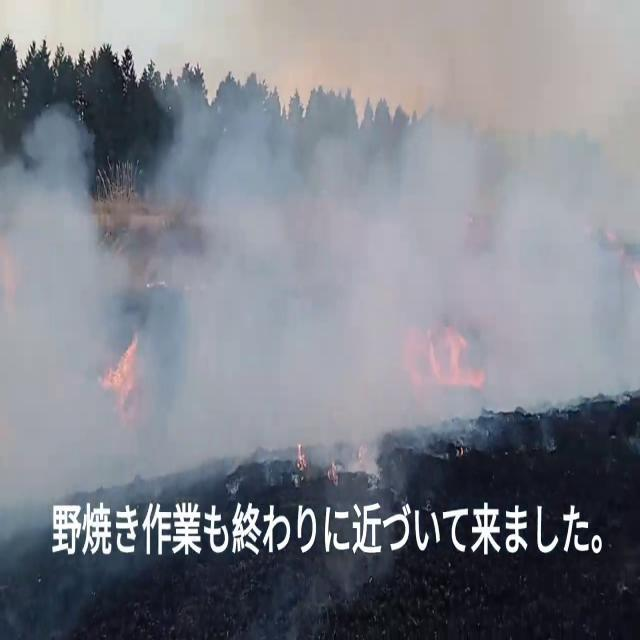Smoke: (0, 53, 638, 461)
